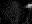person: (26, 3, 31, 10)
